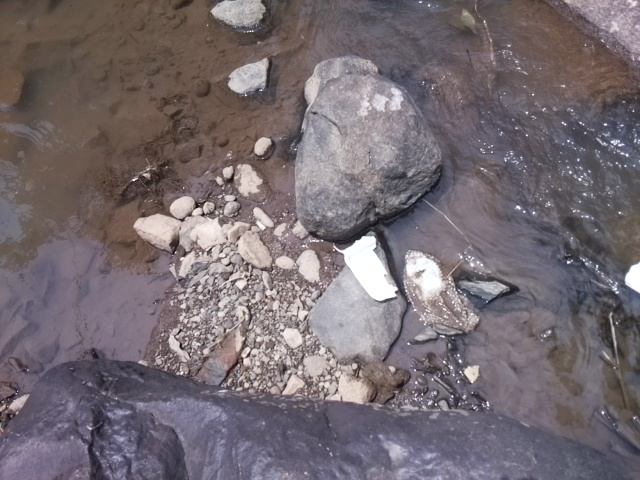Sampah_Plastik: (402, 248, 483, 342)
Sampah_Styrofoam: (341, 237, 398, 305)
